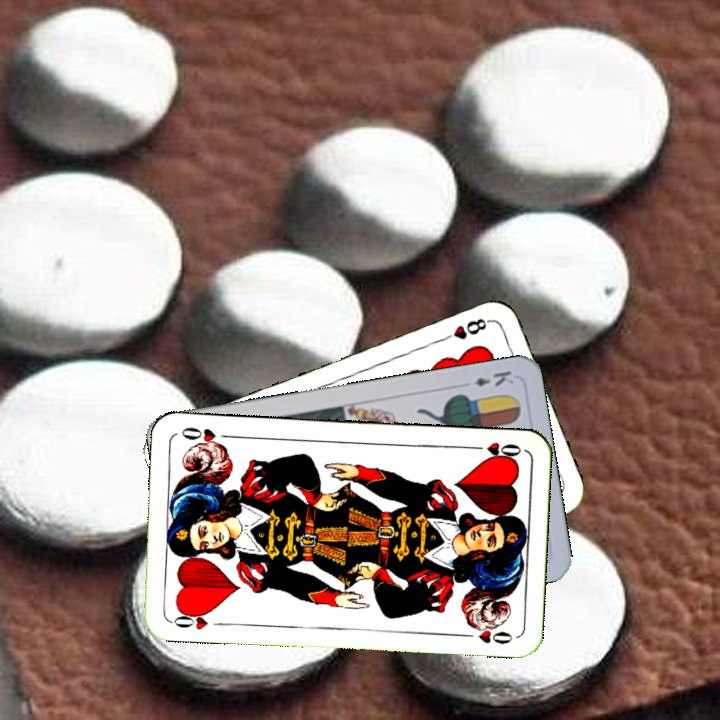EK: (470, 366, 517, 389)
H8: (436, 314, 493, 345)
HO: (466, 438, 524, 463), (167, 606, 214, 633)
